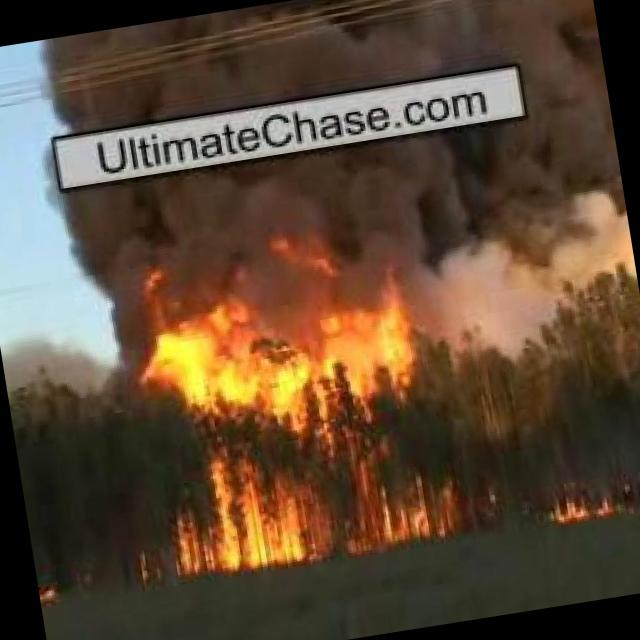Fire: (137, 229, 464, 584), (544, 480, 620, 528)
Smoke: (48, 97, 622, 271), (41, 0, 601, 138)
